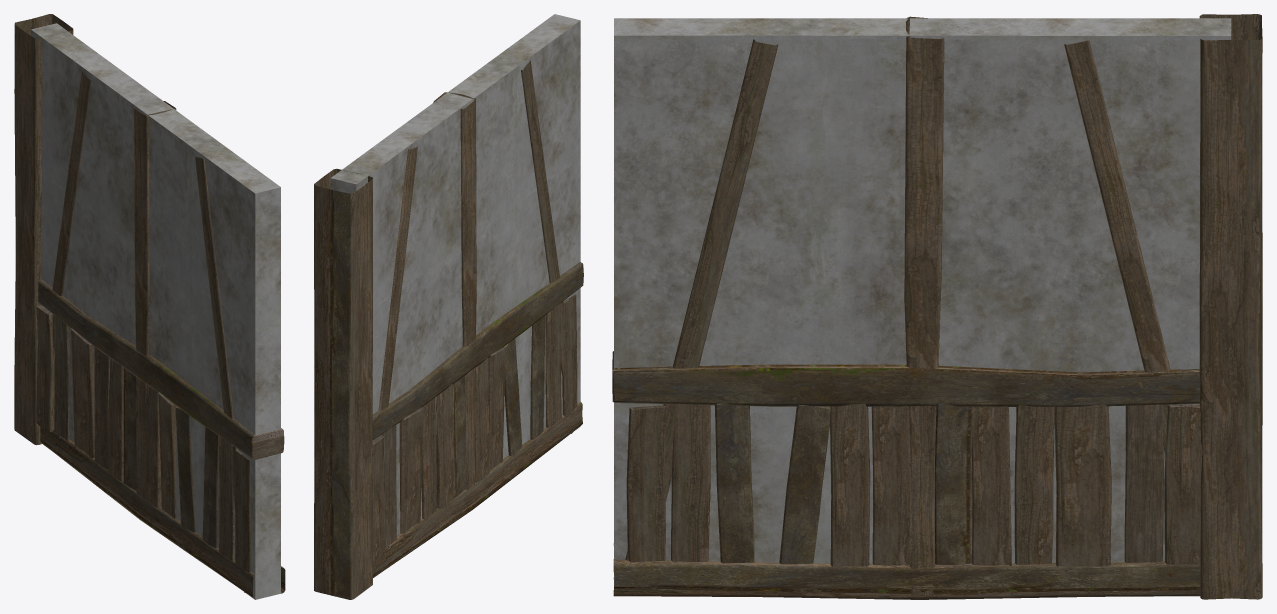
Rendered from SM_Wall14.fbx.
The picture shows the model from 3 angles, left to right: view 1: azimuth 30°, elevation 25°; view 2: azimuth 150°, elevation 25°; view 3: azimuth 270°, elevation 25°; orthographic projection. The views are drawn at different scales.
Visible parts, largest first — view 1: SM_Wall14_LOD0; view 2: SM_Wall14_LOD0; view 3: SM_Wall14_LOD0.
Boxes of the visible parts, box(x1,y1,x2,y2) form: SM_Wall14_LOD0: box(14, 14, 285, 599); SM_Wall14_LOD0: box(314, 14, 583, 599); SM_Wall14_LOD0: box(612, 14, 1262, 599).
Size of the model in its own units: 30.71 by 316 by 303.
